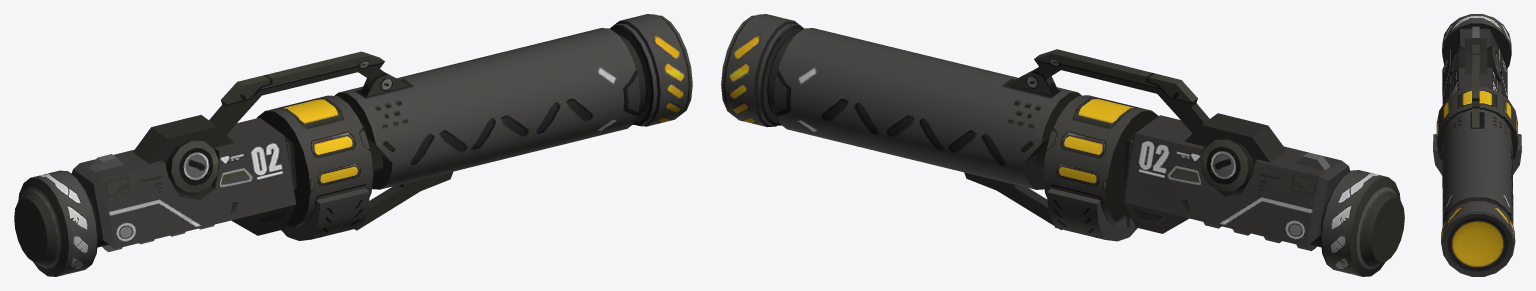
Rendered from E2SleeveMd060011.fbx.
The picture shows the model from 3 angles, left to right: view 1: azimuth 30°, elevation 25°; view 2: azimuth 150°, elevation 25°; view 3: azimuth 270°, elevation 25°; orthographic projection. The views are drawn at different scales.
Parts seen in each view (by area): view 1: E2SleeveMd060011; view 2: E2SleeveMd060011; view 3: E2SleeveMd060011.
Part boxes in pixels (box(x1,y1,x2,y2)): E2SleeveMd060011: box(14, 14, 692, 276); E2SleeveMd060011: box(721, 14, 1404, 276); E2SleeveMd060011: box(1433, 14, 1521, 276).
Size of the model in its own units: 1.48 by 0.3845 by 0.2647.
Materials: 1 (1 with a texture image).
